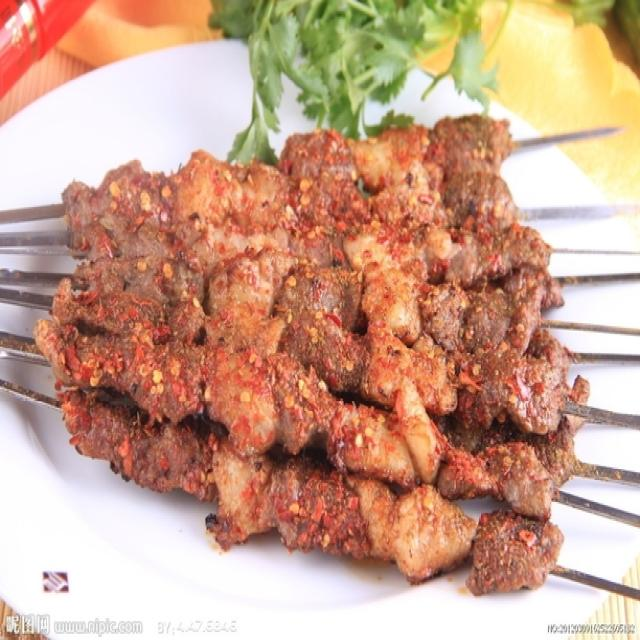烧串烤肉: (25, 47, 606, 596)
